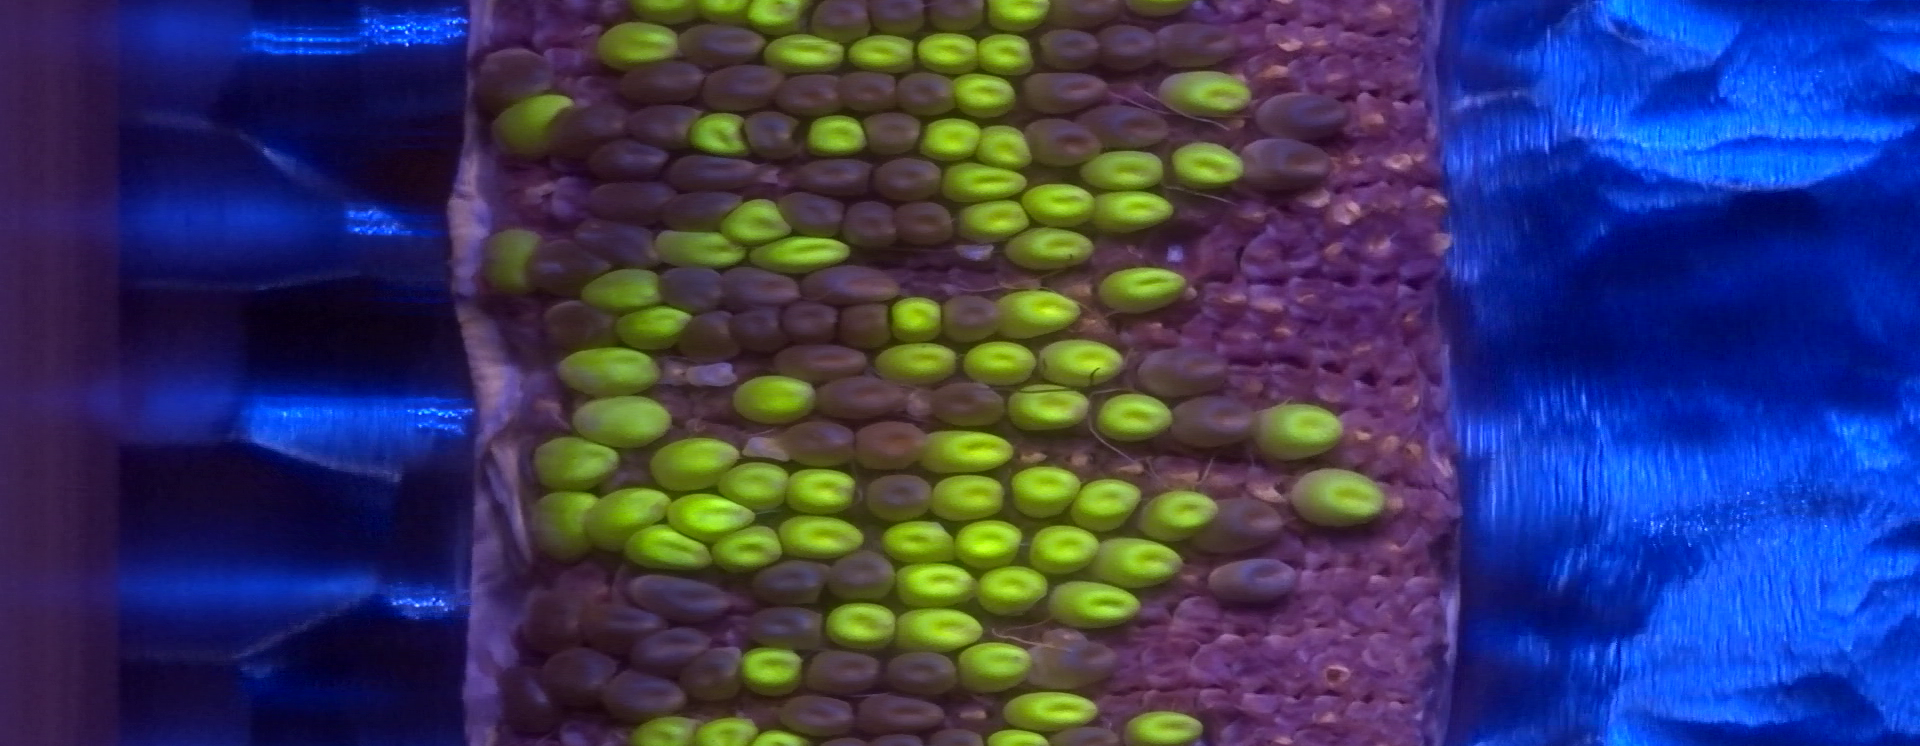fluorescent: (1291, 469, 1382, 526), (1255, 403, 1344, 459), (493, 93, 571, 156), (590, 486, 671, 545), (1085, 538, 1183, 586), (651, 440, 742, 491), (556, 349, 658, 394), (1044, 579, 1144, 625), (896, 608, 984, 657), (998, 688, 1100, 730), (538, 437, 617, 489), (1040, 338, 1120, 388), (996, 284, 1070, 338), (574, 399, 673, 440), (653, 224, 742, 268), (1157, 72, 1249, 115), (1008, 465, 1082, 518), (664, 491, 749, 537), (954, 643, 1030, 693), (716, 461, 789, 513), (1100, 262, 1178, 310), (624, 527, 709, 571), (530, 495, 598, 550), (1097, 391, 1171, 441), (730, 372, 816, 415), (778, 513, 863, 556), (1000, 229, 1093, 268), (1142, 492, 1215, 541), (894, 563, 976, 606), (927, 473, 1000, 521), (485, 225, 536, 293), (1090, 190, 1171, 233), (596, 23, 675, 67), (921, 431, 1011, 469), (980, 563, 1047, 614), (1027, 527, 1100, 573), (1080, 149, 1160, 191), (1005, 387, 1089, 426), (583, 267, 662, 307), (827, 600, 894, 648), (1019, 181, 1093, 224), (1073, 481, 1139, 529), (615, 307, 692, 348), (880, 522, 955, 563), (1172, 142, 1240, 187), (962, 341, 1032, 385), (711, 524, 781, 568), (958, 519, 1022, 566), (747, 235, 849, 265), (765, 36, 844, 72), (1120, 709, 1204, 744), (940, 167, 1026, 200), (743, 647, 802, 695), (876, 344, 956, 379), (955, 73, 1015, 118), (720, 197, 787, 236), (787, 472, 856, 510), (972, 122, 1030, 165), (917, 118, 977, 158), (850, 36, 915, 72), (920, 29, 975, 72), (804, 115, 861, 156), (959, 201, 1022, 236), (688, 111, 749, 148), (631, 713, 699, 744), (885, 299, 940, 336), (744, 1, 807, 31), (976, 38, 1029, 70), (989, 1, 1044, 29), (700, 719, 758, 744), (627, 1, 697, 20), (691, 1, 752, 17), (981, 733, 1052, 745), (749, 731, 808, 744)
nonfluorescent: (1251, 89, 1354, 145), (1240, 134, 1333, 194), (628, 571, 733, 620), (474, 47, 556, 108), (1206, 555, 1303, 606), (1167, 394, 1256, 450), (1026, 636, 1119, 688), (1157, 18, 1247, 70), (1079, 103, 1171, 152), (574, 219, 660, 269), (609, 669, 684, 725), (1134, 345, 1228, 391), (1018, 116, 1100, 168), (497, 664, 553, 737), (549, 647, 612, 710), (540, 296, 613, 352), (555, 100, 626, 157), (800, 263, 901, 303), (1206, 499, 1283, 550), (860, 692, 945, 737), (577, 601, 666, 644), (698, 62, 782, 108), (853, 421, 926, 474), (769, 342, 871, 379), (680, 23, 764, 67), (931, 382, 1008, 430), (1020, 70, 1108, 111), (584, 179, 667, 223), (520, 590, 580, 650), (827, 551, 898, 601), (1097, 22, 1163, 76), (796, 156, 874, 201), (863, 472, 936, 521), (529, 240, 598, 292), (871, 156, 944, 203), (753, 554, 823, 604), (662, 190, 743, 233), (623, 59, 702, 103), (662, 152, 756, 189), (776, 190, 842, 241), (744, 608, 823, 650), (887, 650, 962, 695), (655, 265, 725, 312), (890, 200, 956, 250), (722, 269, 800, 312), (782, 419, 853, 465), (814, 376, 904, 413), (775, 693, 851, 735), (582, 140, 667, 176), (742, 110, 804, 160), (804, 648, 882, 688), (942, 290, 998, 345), (778, 70, 842, 118), (627, 104, 700, 146), (894, 70, 958, 118), (631, 626, 707, 665), (678, 311, 737, 361), (860, 109, 921, 156), (842, 198, 895, 252), (835, 301, 894, 349), (735, 304, 785, 358), (1036, 28, 1100, 70), (808, 1, 869, 43), (838, 69, 894, 111), (694, 650, 740, 703), (782, 301, 836, 343), (1044, 1, 1124, 29), (923, 1, 987, 33), (869, 1, 922, 36)
